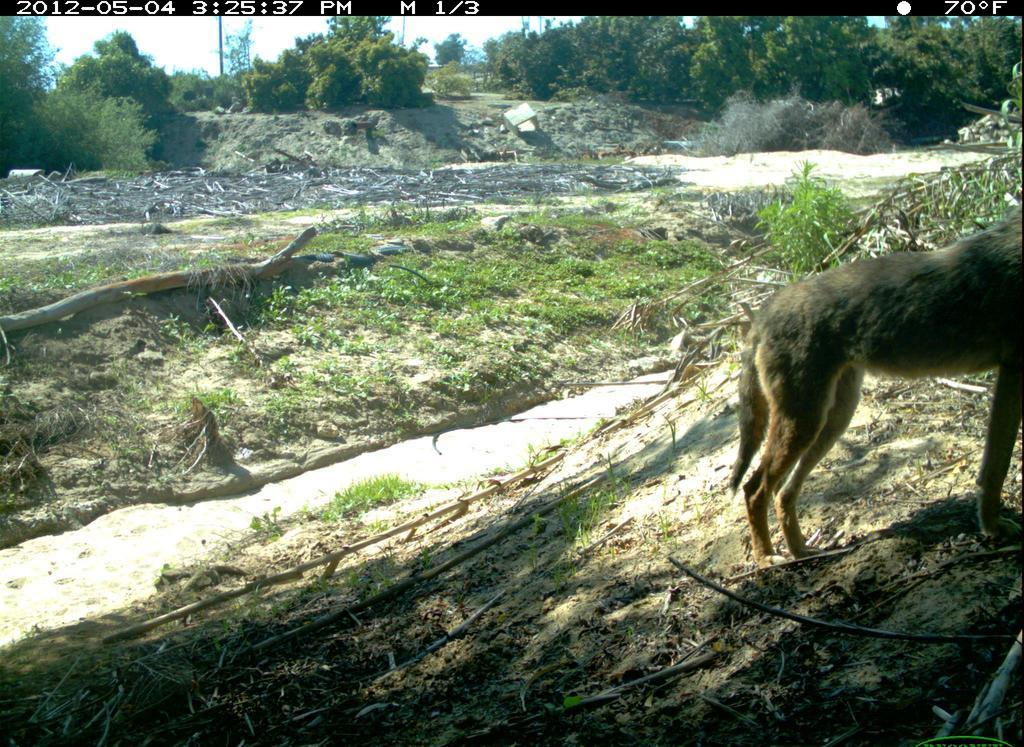coyote: (722, 195, 1021, 566)
